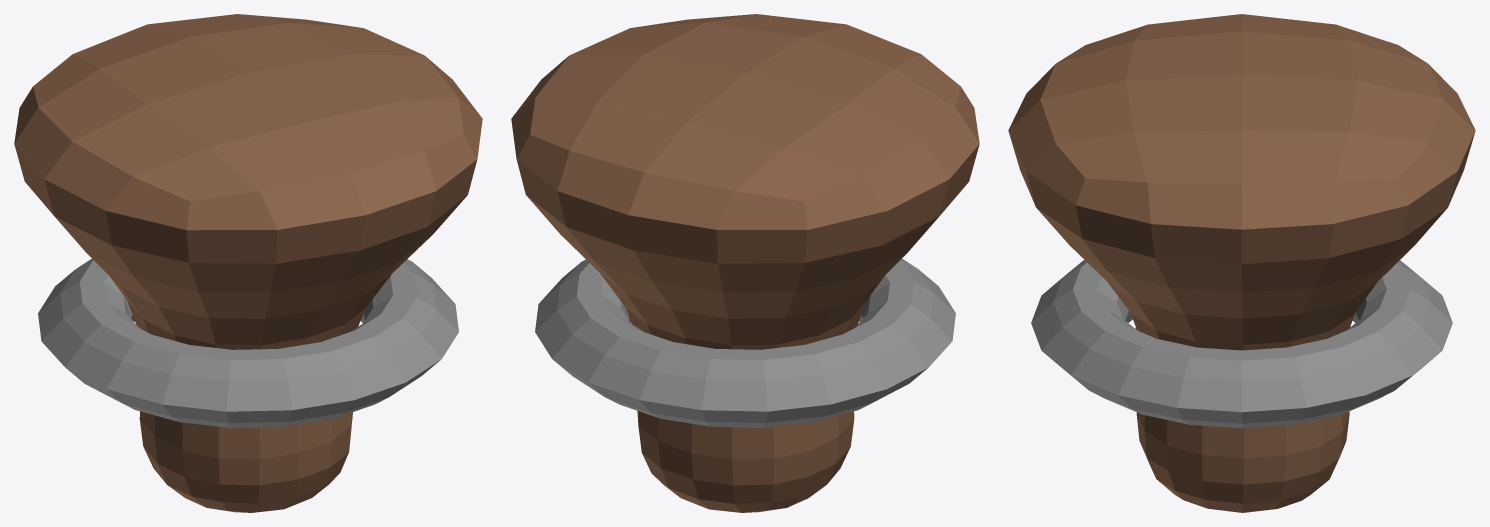
File: ObranyStredbb.fbx
3 renders of one model, left to right at view 1: azimuth 30°, elevation 25°; view 2: azimuth 150°, elevation 25°; view 3: azimuth 270°, elevation 25°, orthographic.
Parts seen in each view (by area): view 1: Tělo.004, střed.001; view 2: Tělo.004, střed.001; view 3: Tělo.004, střed.001.
Boxes of the visible parts, box(x1,y1,x2,y2) form: Tělo.004: box(14, 14, 482, 512); střed.001: box(38, 259, 458, 427); Tělo.004: box(511, 14, 979, 512); střed.001: box(535, 259, 955, 427); Tělo.004: box(1008, 14, 1475, 512); střed.001: box(1031, 259, 1452, 428).
Bounding box in the file's own units: 3.44 × 3.46 × 3.43.
